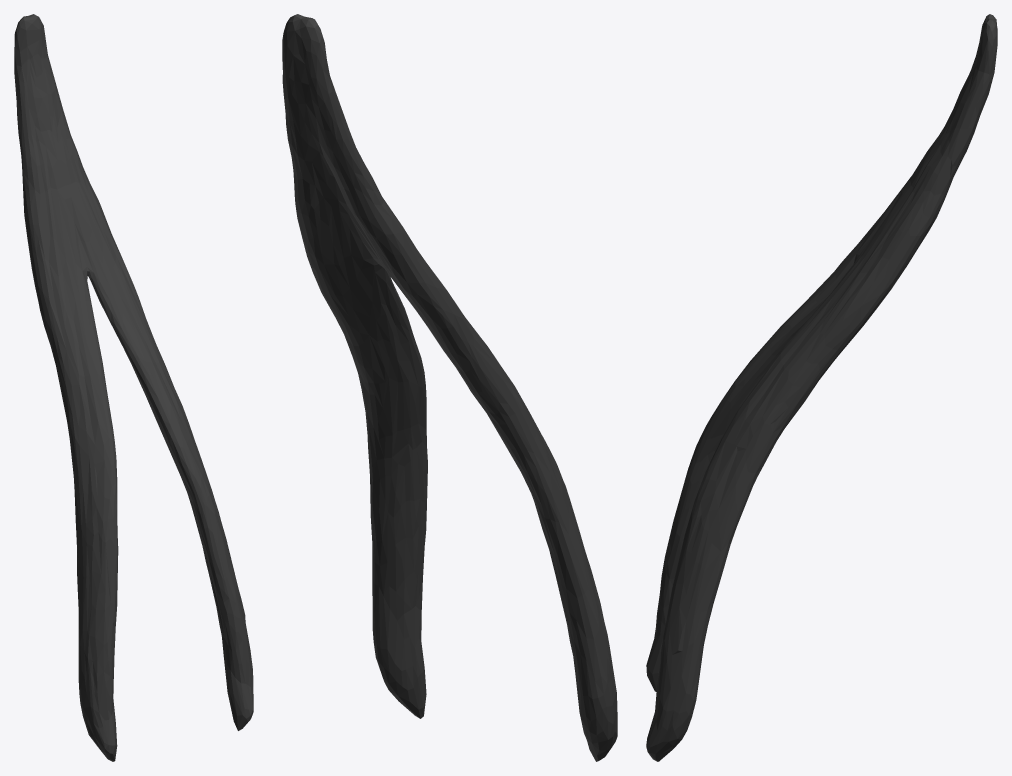
Rendered from m_sternocephalicus_pars_mastoideus.glb.
3 renders of one model, left to right at view 1: azimuth 30°, elevation 25°; view 2: azimuth 150°, elevation 25°; view 3: azimuth 270°, elevation 25°, orthographic. The views are drawn at different scales.
Visible parts, largest first — view 1: m_sternocephalicus_pars_mastoideus; view 2: m_sternocephalicus_pars_mastoideus; view 3: m_sternocephalicus_pars_mastoideus.
Boxes of the visible parts, left/top/right/bottom form: m_sternocephalicus_pars_mastoideus: left=14, top=14, right=253, bottom=761; m_sternocephalicus_pars_mastoideus: left=282, top=14, right=617, bottom=761; m_sternocephalicus_pars_mastoideus: left=646, top=14, right=997, bottom=761.
Bounding box in the file's own units: 0.00198 × 0.0071 × 0.00319.
1 material, 1 textured.
